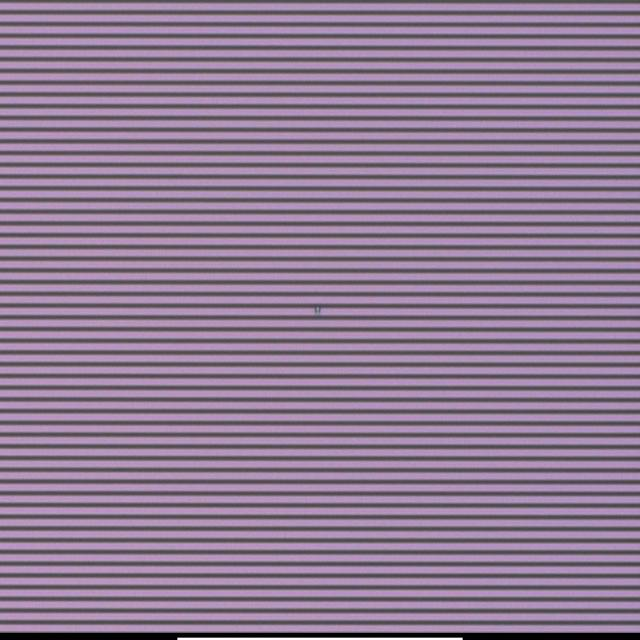nonvisual: (310, 300, 323, 318)
